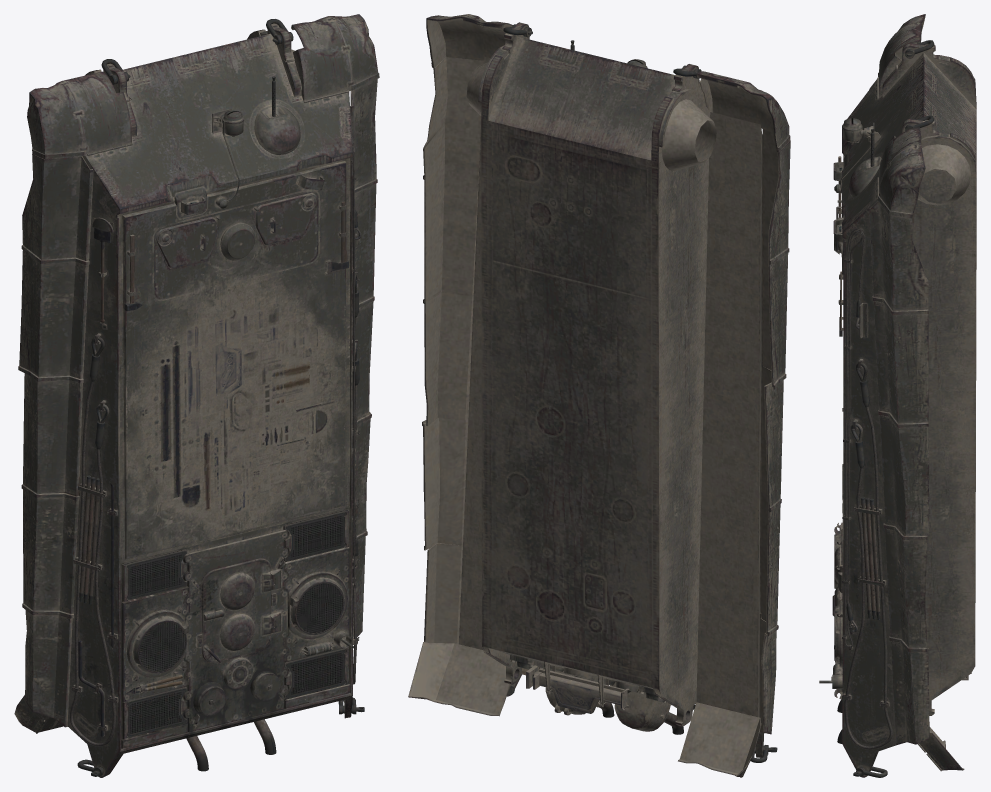
The model's file is Hull.glb.
3 views of the same model, side by side, from view 1: azimuth 30°, elevation 25°; view 2: azimuth 150°, elevation 25°; view 3: azimuth 270°, elevation 25° (orthographic). The views are drawn at different scales.
Parts seen in each view (by area): view 1: set_0_group_0; view 2: set_0_group_0; view 3: set_0_group_0.
Boxes of the visible parts, box(x1,y1,x2,y2) form: set_0_group_0: box(14, 14, 379, 777); set_0_group_0: box(408, 14, 790, 777); set_0_group_0: box(819, 14, 976, 777).
Bounding box in the file's own units: 3.87 × 7.42 × 1.64.
1 material, 1 textured.
